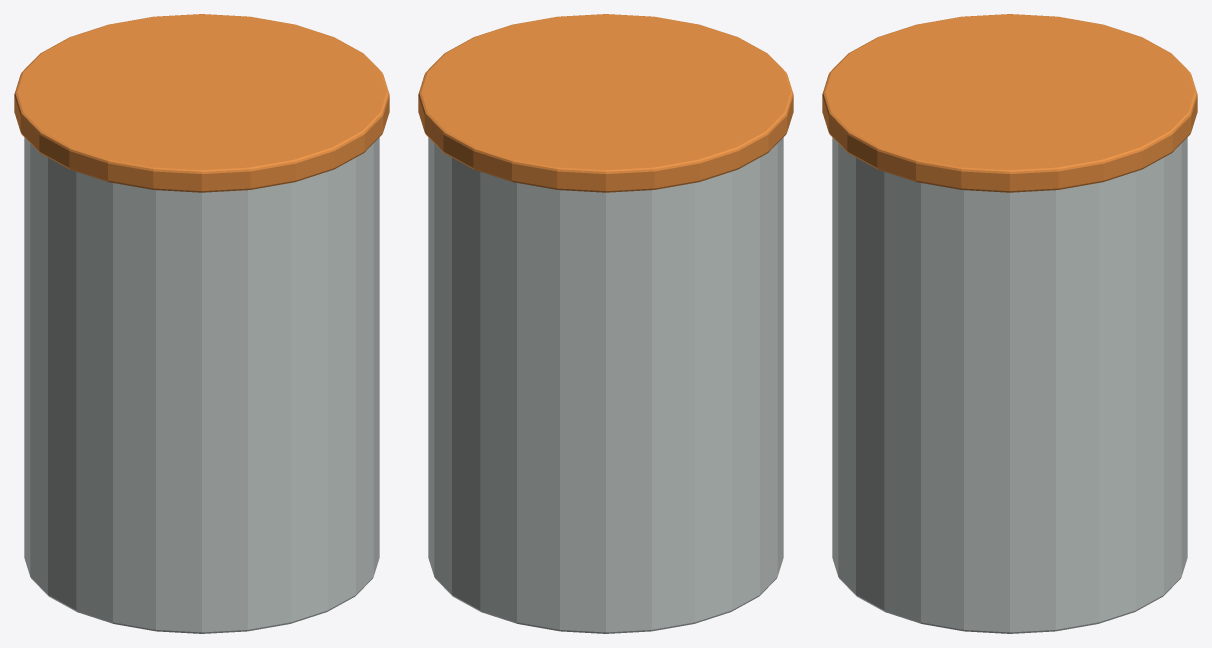
File: WasteBin.fbx
3 views of the same model, side by side, from view 1: azimuth 30°, elevation 25°; view 2: azimuth 150°, elevation 25°; view 3: azimuth 270°, elevation 25° (orthographic).
Visible parts, largest first — view 1: WasteBin, Lid; view 2: WasteBin, Lid; view 3: WasteBin, Lid.
Boxes of the visible parts, left/top/right/bottom form: WasteBin: left=24, top=137, right=379, bottom=633; Lid: left=14, top=14, right=389, bottom=192; WasteBin: left=428, top=137, right=783, bottom=633; Lid: left=418, top=14, right=793, bottom=192; WasteBin: left=832, top=137, right=1187, bottom=633; Lid: left=822, top=14, right=1197, bottom=192.
Bounding box in the file's own units: 38 × 52.25 × 38.
